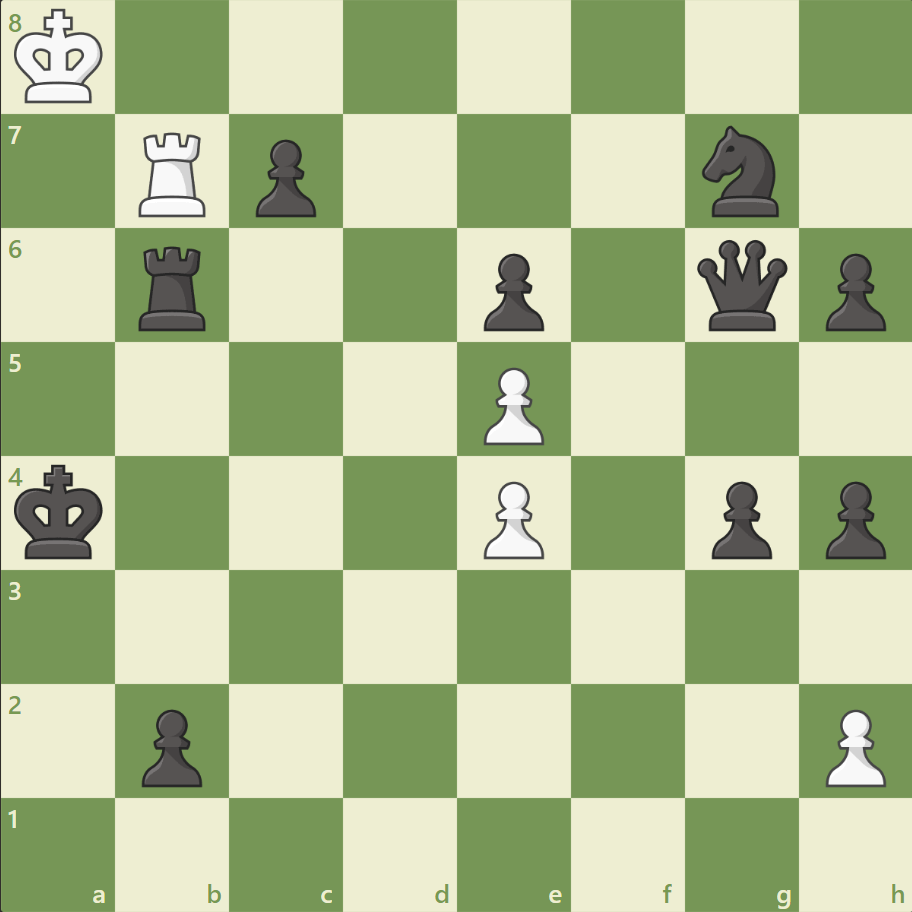K: (11, 4, 111, 112)
P: (474, 359, 549, 450), (474, 473, 549, 564), (815, 700, 889, 791)
R: (133, 125, 215, 222)
k: (11, 458, 111, 566)
n: (692, 121, 789, 223)
p: (247, 132, 322, 223), (474, 246, 549, 337), (701, 473, 776, 564), (133, 700, 208, 791), (815, 246, 889, 337), (815, 473, 889, 564)
q: (691, 236, 790, 335)
r: (133, 239, 215, 336)
